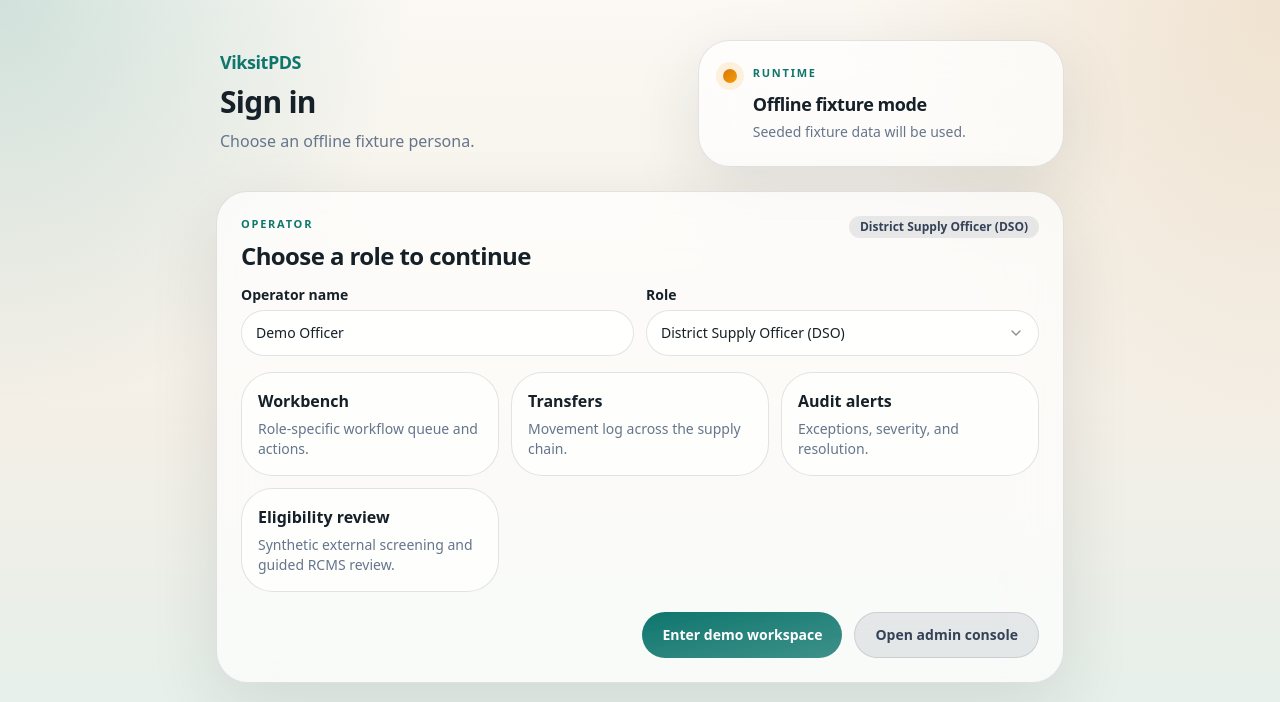
app shell › lands operational roles on their supply-chain module home
Click the button "Enter demo workspace": (742, 635) top-left (642, 612), bottom-right (842, 658)
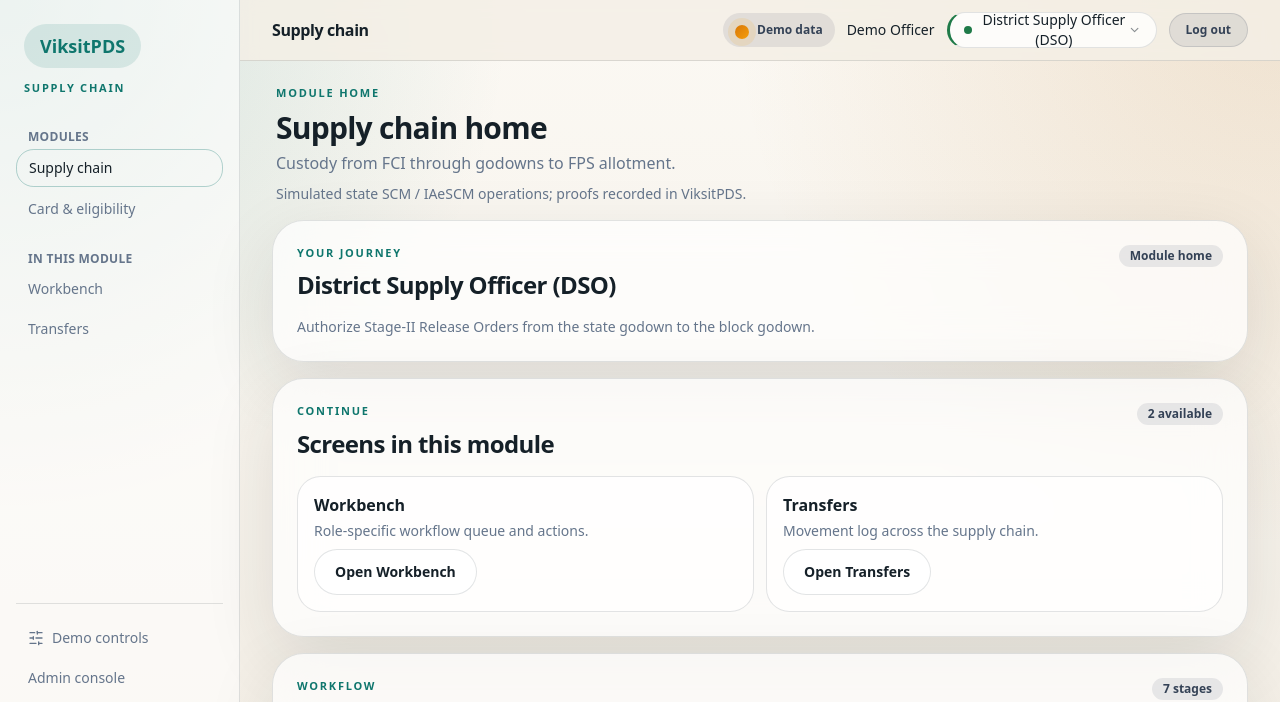
Expected: the heading "Supply chain home" is shown, top-left (276, 106), bottom-right (547, 148)
Expected: the link "Supply chain" is shown, top-left (16, 148), bottom-right (223, 186)
Expected: the link "Card & eligibility" is shown, top-left (28, 198), bottom-right (135, 218)
